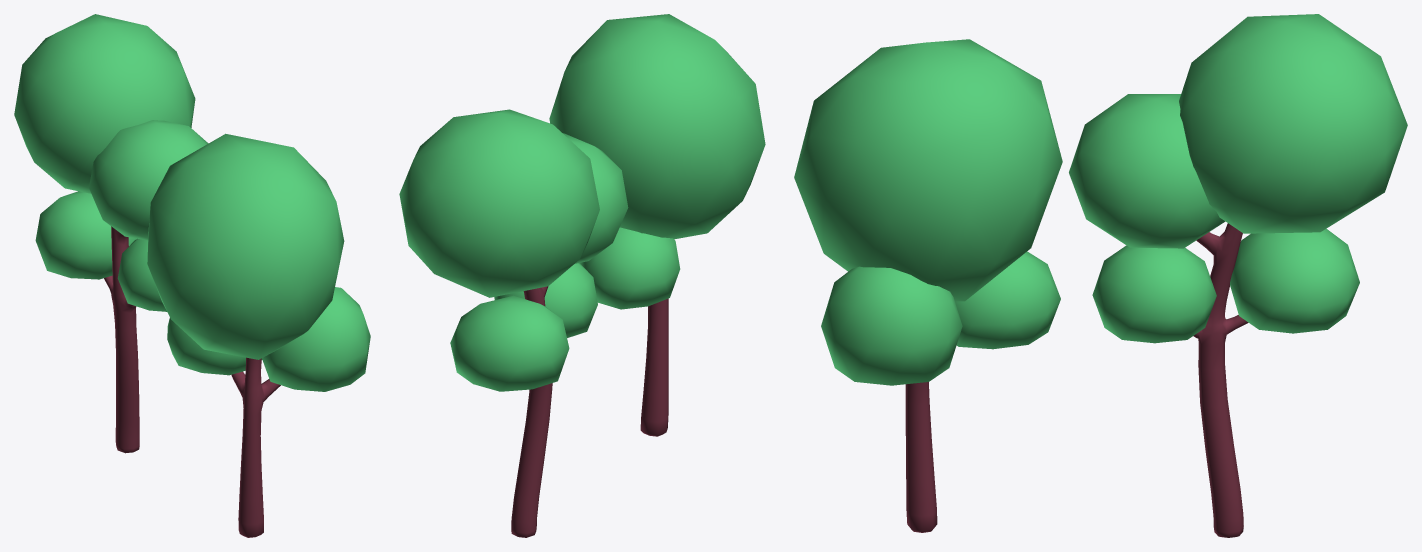
File: Tree.fbx
The picture shows the model from 3 angles, left to right: view 1: azimuth 30°, elevation 25°; view 2: azimuth 150°, elevation 25°; view 3: azimuth 270°, elevation 25°; orthographic projection. The views are drawn at different scales.
Parts seen in each view (by area): view 1: Cube.002, Icosphere.003, Cube.001, Cube; view 2: Icosphere.003, Cube.002, Cube.001, Cube; view 3: Icosphere.003, Cube.002, Cube.001, Cube.
Part boxes in pixels (x1,y1,x2,y2): Cube.002: (147,133,370,391); Icosphere.003: (14,14,208,311); Cube.001: (104,226,139,453); Cube: (231,357,280,537); Icosphere.003: (399,109,628,391); Cube.002: (549,14,765,309); Cube.001: (511,286,552,537); Cube: (640,298,668,436); Icosphere.003: (1069,14,1407,343); Cube.002: (794,39,1062,385); Cube.001: (1193,223,1248,537); Cube: (905,382,937,532).
Bounding box in the file's own units: 1219 × 2564 × 2784.
